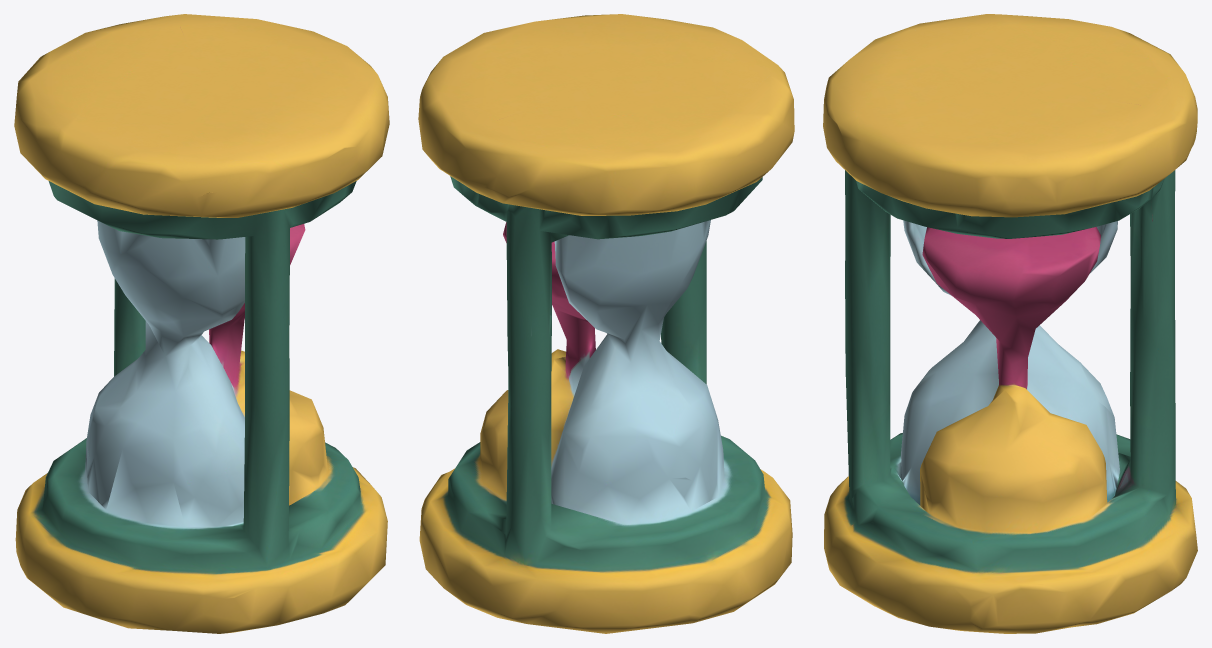
Rendered from hourglass.glb.
3 renders of one model, left to right at view 1: azimuth 30°, elevation 25°; view 2: azimuth 150°, elevation 25°; view 3: azimuth 270°, elevation 25°, orthographic.
Visible parts, largest first — view 1: tripo_node_50b80644-0037-4c07-9456-e510a109e428; view 2: tripo_node_50b80644-0037-4c07-9456-e510a109e428; view 3: tripo_node_50b80644-0037-4c07-9456-e510a109e428.
Boxes of the visible parts, x1=… form: tripo_node_50b80644-0037-4c07-9456-e510a109e428: x1=14, y1=14, x2=389, y2=633; tripo_node_50b80644-0037-4c07-9456-e510a109e428: x1=418, y1=14, x2=794, y2=633; tripo_node_50b80644-0037-4c07-9456-e510a109e428: x1=823, y1=14, x2=1197, y2=633.
Size of the model in its own units: 0.7115 by 1 by 0.71.
1 material, 1 textured.
